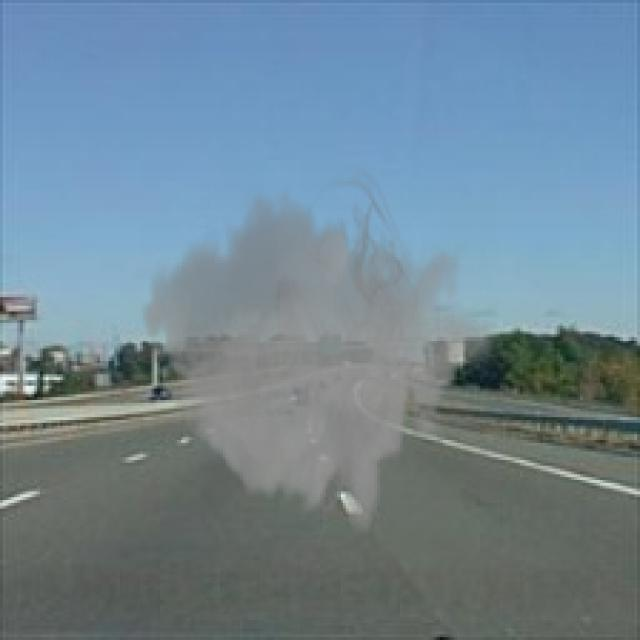Smoke: (140, 160, 497, 549)
